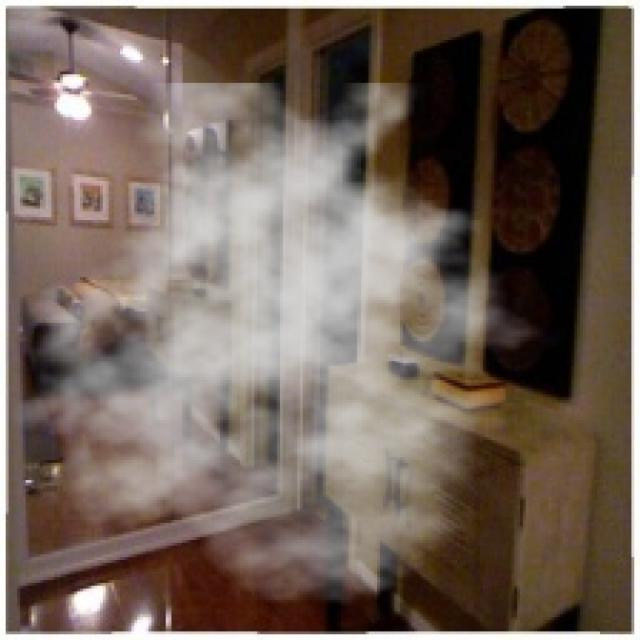smoke: (11, 83, 566, 606)
